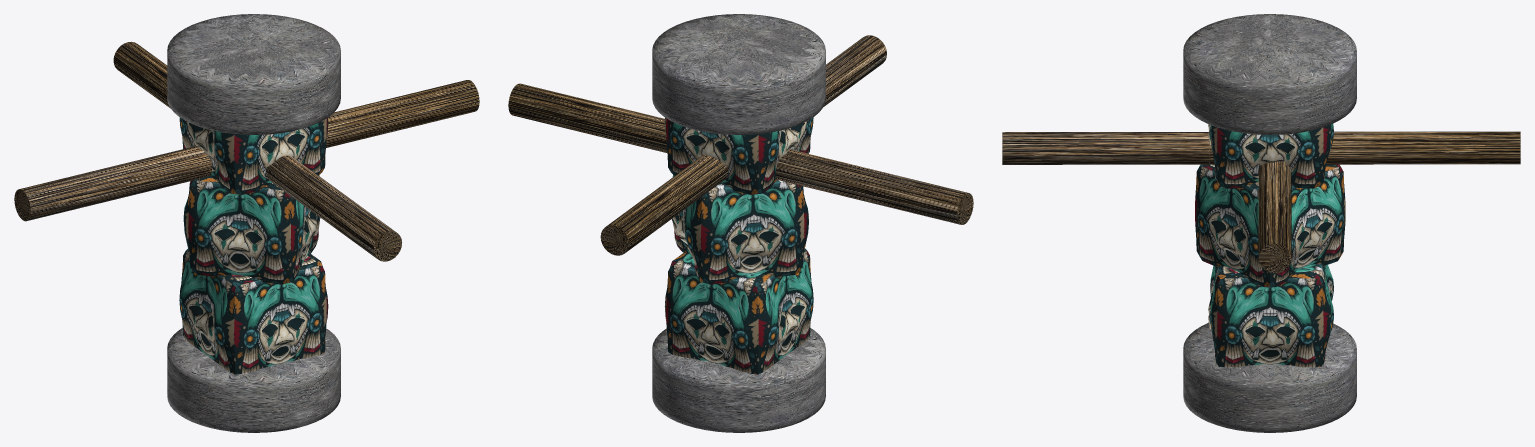
File: totemV1.FBX
The picture shows the model from 3 angles, left to right: view 1: azimuth 30°, elevation 25°; view 2: azimuth 150°, elevation 25°; view 3: azimuth 270°, elevation 25°; orthographic projection.
Parts seen in each view (by area): view 1: Cone001, Box1614, Cone002, Cone003; view 2: Cone001, Box1614, Cone002, Cone003; view 3: Cone001, Box1614, Cone003, Cone002.
Boxes of the visible parts, x1,y1,x2,y2 form: Cone001: [167, 14, 340, 432]; Box1614: [179, 117, 328, 374]; Cone002: [14, 80, 479, 221]; Cone003: [113, 41, 401, 261]; Cone001: [652, 14, 825, 432]; Box1614: [664, 117, 813, 374]; Cone002: [508, 83, 973, 224]; Cone003: [600, 35, 886, 255]; Cone001: [1183, 14, 1356, 432]; Box1614: [1195, 123, 1345, 367]; Cone003: [1002, 131, 1520, 164]; Cone002: [1258, 161, 1291, 273].
Bounding box in the file's own units: 17.18 × 13.08 × 17.18.
Materials: 3 (3 with a texture image).
